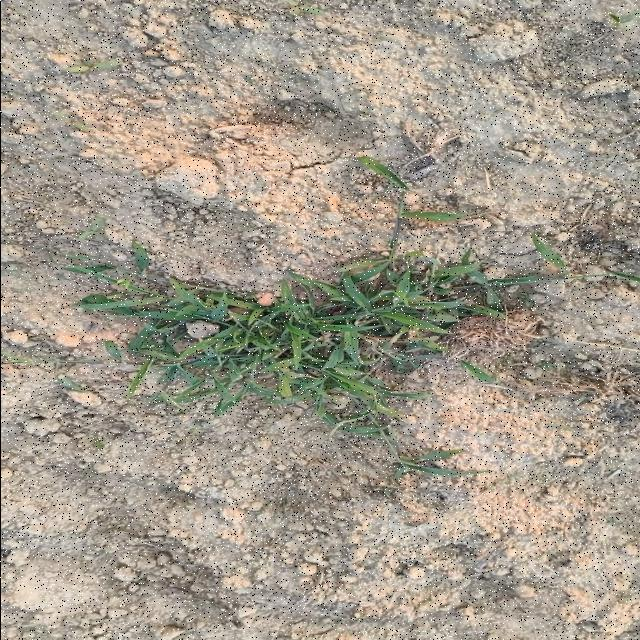weed: (65, 202, 594, 449), (359, 156, 406, 190)
